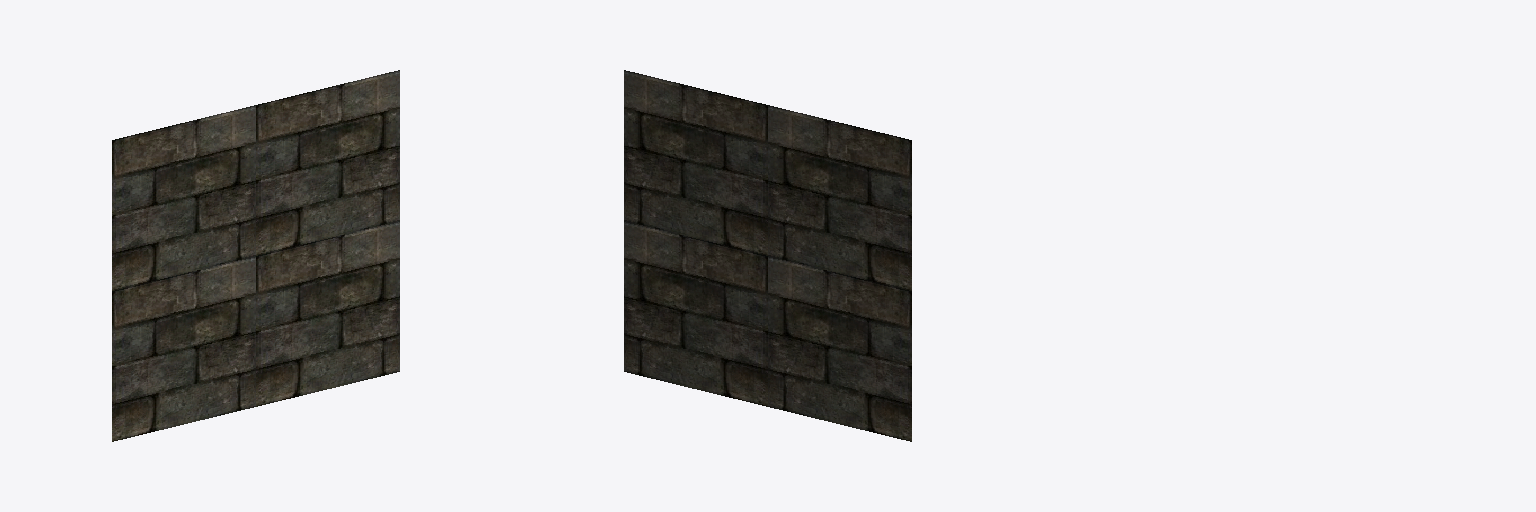
The picture shows the model from 3 angles: view 1: azimuth 30°, elevation 25°; view 2: azimuth 150°, elevation 25°; view 3: azimuth 270°, elevation 25°; orthographic projection.
Size of the model in its own units: 6 by 6 by 0.
1 materials, 1 textured.